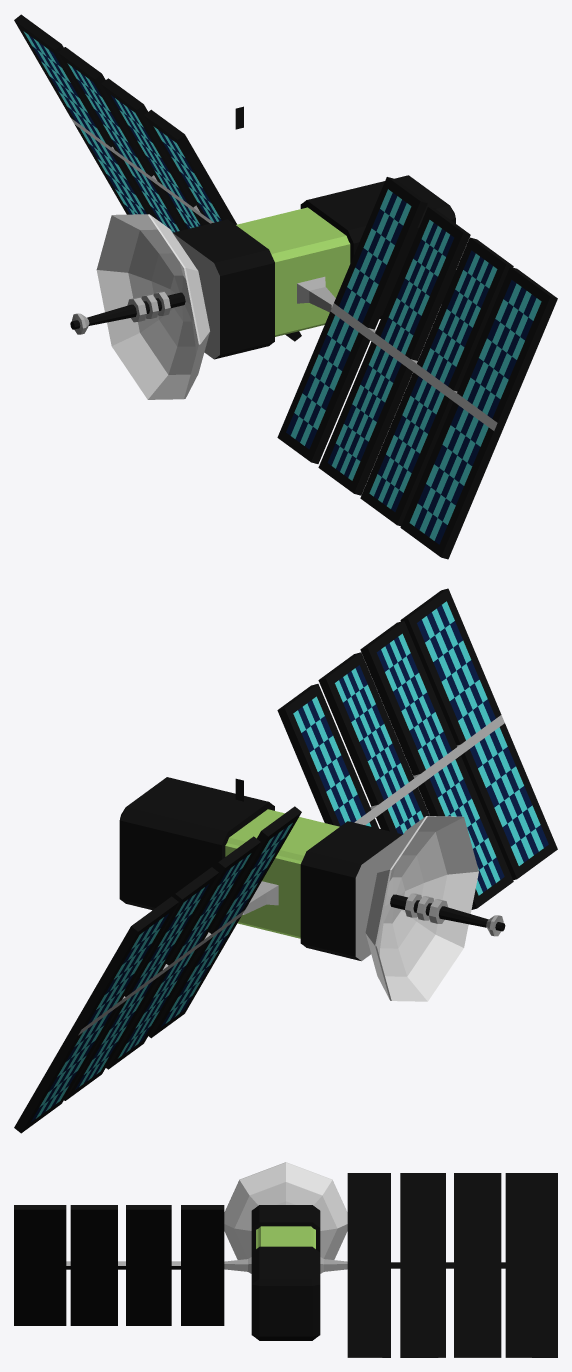
Rendered from satelite.fbx.
3 renders of one model, top to bottom at view 1: azimuth 30°, elevation 25°; view 2: azimuth 150°, elevation 25°; view 3: azimuth 270°, elevation 25°, orthographic. The views are drawn at different scales.
Parts seen in each view (by area): view 1: y, Satelite1, Satelite1.002; view 2: y, Satelite1, Satelite1.002; view 3: Satelite1.002, y, Satelite1.
Boxes of the visible parts, <box> form: y: <box>277,177,557,559</box>; Satelite1: <box>70,106,455,399</box>; Satelite1.002: <box>14,14,301,341</box>; y: <box>277,588,557,909</box>; Satelite1: <box>119,777,505,1001</box>; Satelite1.002: <box>14,806,301,1133</box>; Satelite1.002: <box>347,1173,557,1357</box>; y: <box>14,1205,224,1325</box>; Satelite1: <box>224,1162,347,1340</box>.
Bounding box in the file's own units: 7.84 × 5.17 × 15.91.
